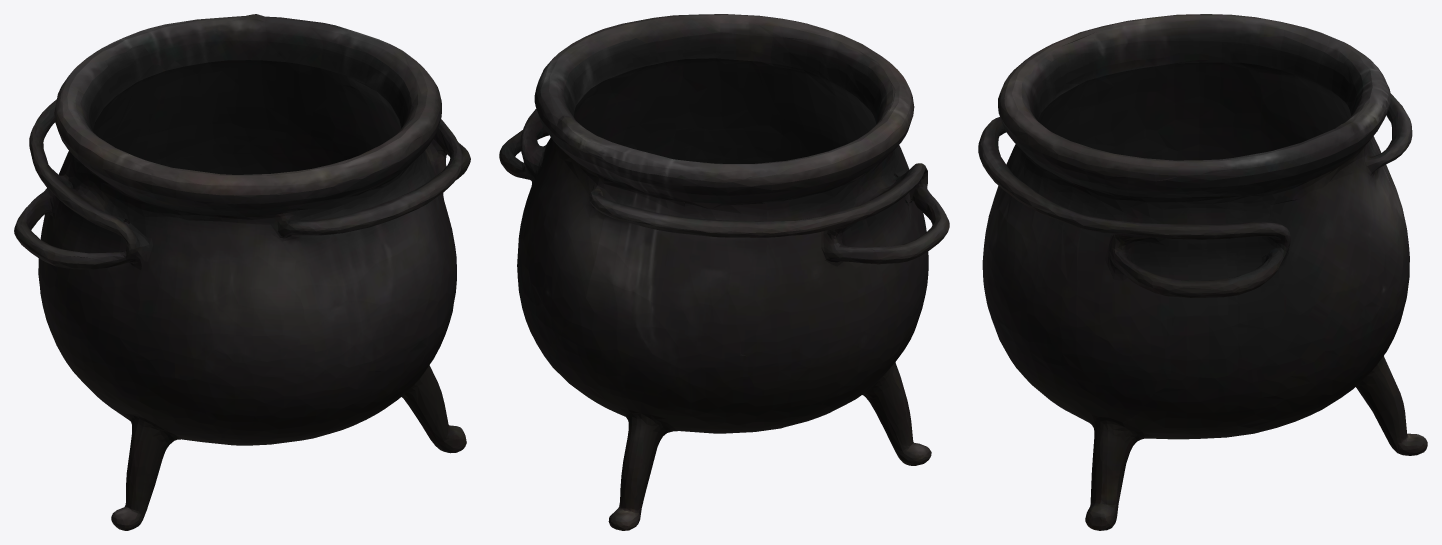
File: cauldron_black.glb
The picture shows the model from 3 angles, left to right: view 1: azimuth 30°, elevation 25°; view 2: azimuth 150°, elevation 25°; view 3: azimuth 270°, elevation 25°; orthographic projection. The views are drawn at different scales.
Parts seen in each view (by area): view 1: geometry_0; view 2: geometry_0; view 3: geometry_0.
Part boxes in pixels (x1=…): geometry_0: x1=14, y1=14, x2=470, y2=530; geometry_0: x1=499, y1=14, x2=949, y2=530; geometry_0: x1=978, y1=14, x2=1427, y2=530.
Size of the model in its own units: 0.9985 by 0.8379 by 0.906.
1 material, 1 textured.
